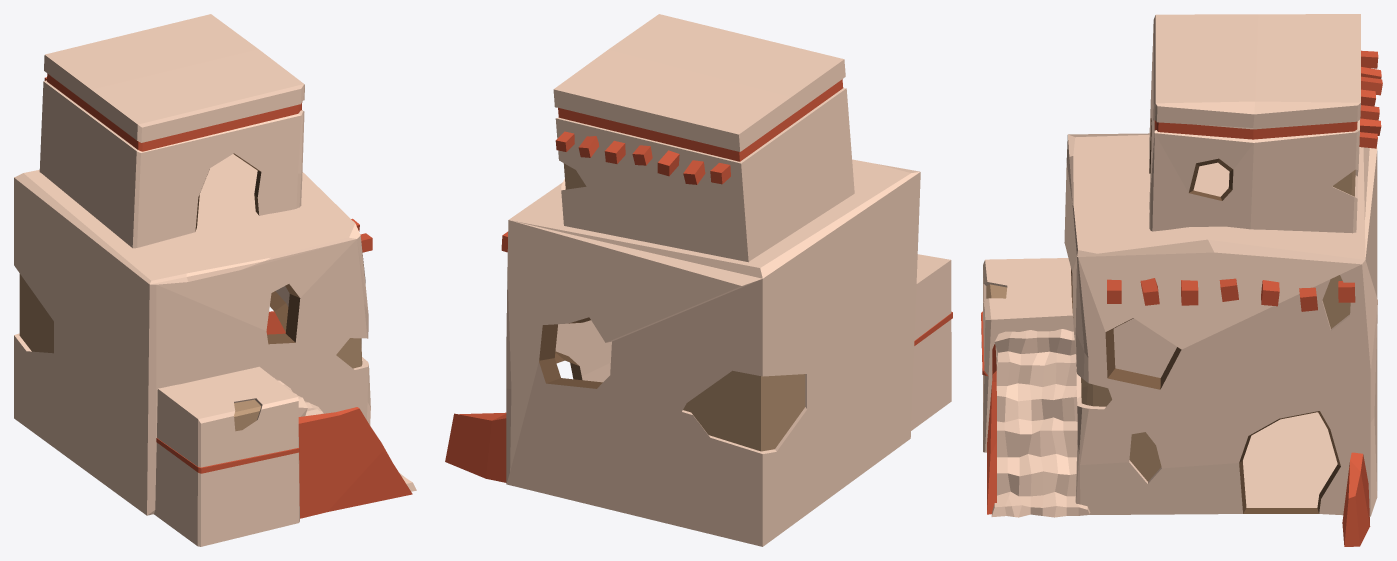
File: house 1.fbx
3 renders of one model, left to right at view 1: azimuth 30°, elevation 25°; view 2: azimuth 150°, elevation 25°; view 3: azimuth 270°, elevation 25°, orthographic. The views are drawn at different scales.
Visible parts, largest first — view 1: Cube; view 2: Cube; view 3: Cube.
Boxes of the visible parts, x1,y1,x2,y2 form: Cube: [14, 14, 416, 546]; Cube: [445, 14, 952, 546]; Cube: [981, 14, 1382, 546].
Bounding box in the file's own units: 255 × 303 × 277.
